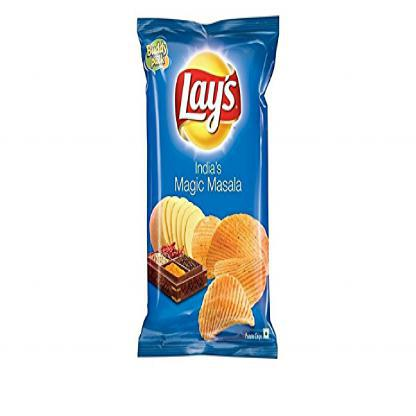indian_magic_masala: (138, 15, 278, 358)
